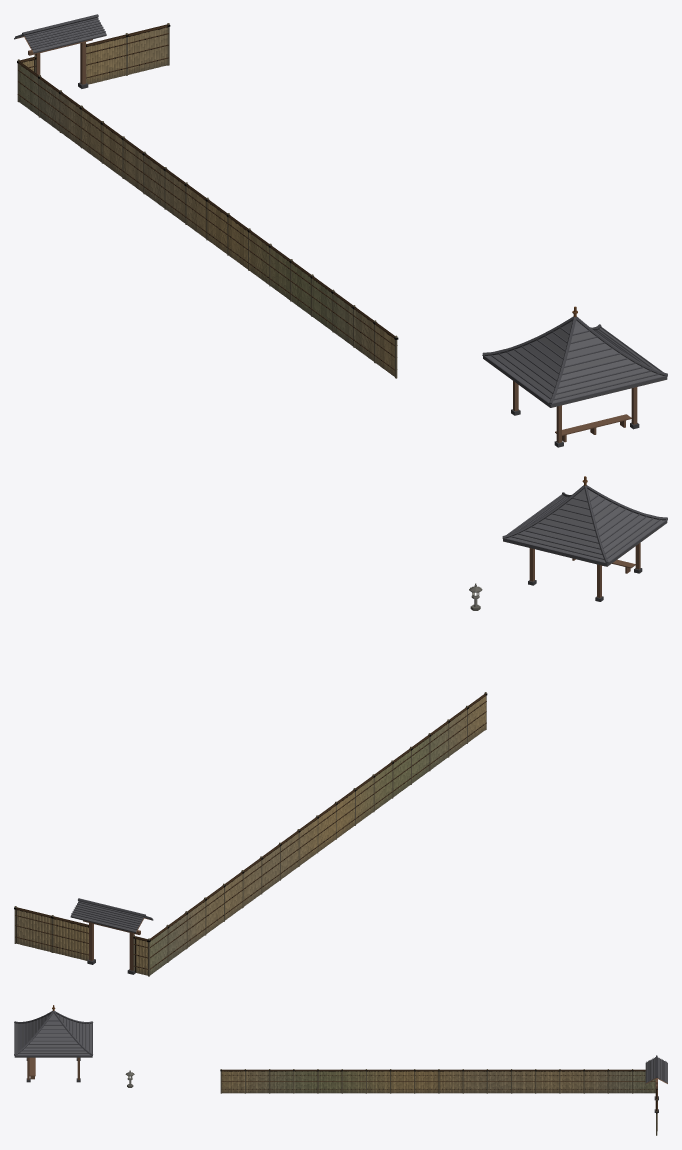
The model's file is belvedere.glb.
3 views of the same model, one above another, from view 1: azimuth 30°, elevation 25°; view 2: azimuth 150°, elevation 25°; view 3: azimuth 270°, elevation 25° (orthographic). The views are drawn at different scales.
Visible parts, largest first — view 1: Belvedere_Bambou, Belvedere_Toit, Belvedere_Bois; view 2: Belvedere_Bambou, Belvedere_Toit, Belvedere_Bois; view 3: Belvedere_Bambou, Belvedere_Toit, Belvedere_Bois.
Part boxes in pixels (<box>): Belvedere_Bambou: <box>17,23,397,378</box>; Belvedere_Toit: <box>14,14,667,447</box>; Belvedere_Bois: <box>16,25,637,442</box>; Belvedere_Bambou: <box>14,583,486,976</box>; Belvedere_Toit: <box>70,485,667,974</box>; Belvedere_Bois: <box>14,476,640,970</box>; Belvedere_Bambou: <box>125,1069,657,1135</box>; Belvedere_Toit: <box>14,1011,667,1112</box>; Belvedere_Bois: <box>27,1005,667,1113</box>.
Bounding box in the file's own units: 8.91 × 8.2 × 49.55.
